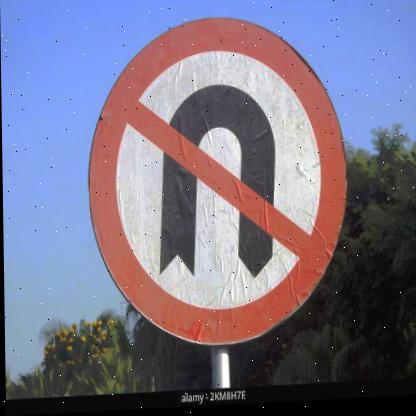No U-turn: (82, 8, 359, 357)
